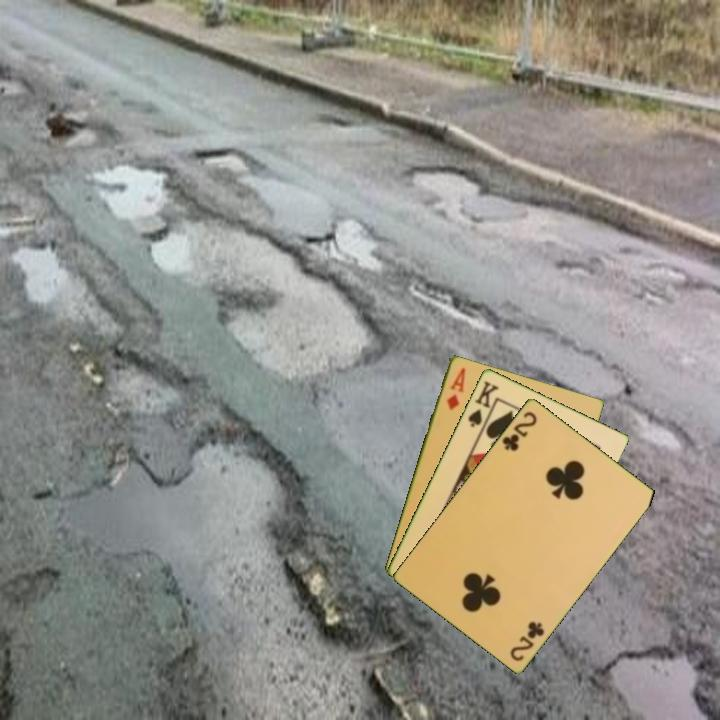2c: (498, 407, 540, 454), (506, 617, 547, 664)
Ad: (443, 363, 468, 412)
Ks: (464, 377, 501, 430)
